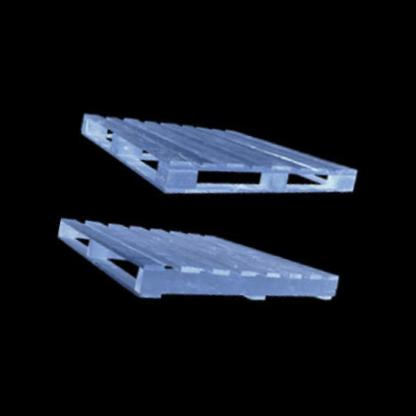BoxFace: (55, 217, 339, 305), (78, 112, 362, 196)
